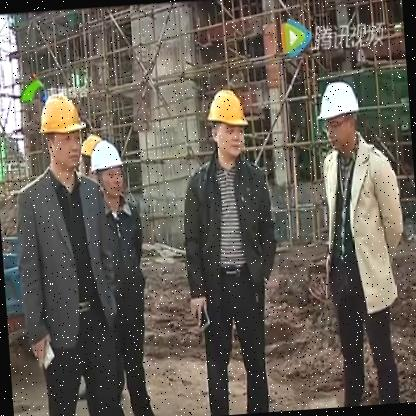capacete: (37, 90, 89, 181), (314, 76, 366, 160), (203, 86, 252, 166), (87, 136, 131, 204)
sem_colete_refletivo: (9, 156, 118, 354), (310, 135, 413, 314), (176, 146, 284, 308), (98, 187, 152, 332)
